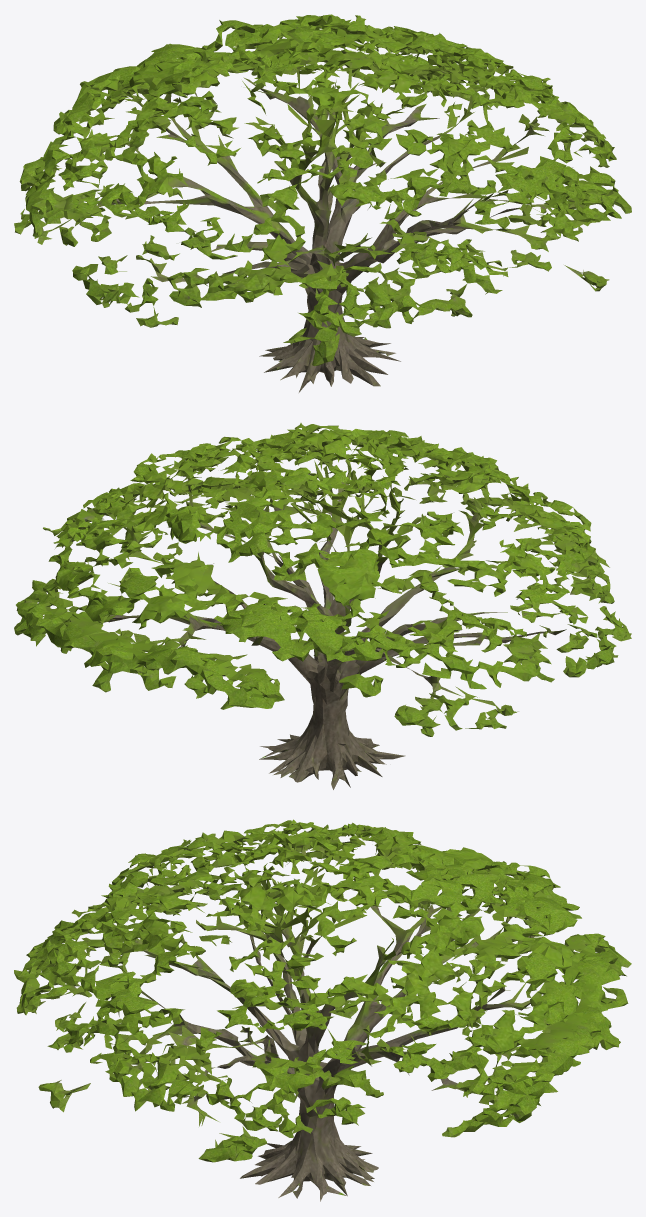
Rendered from remeshed-raintree.glb.
3 renders of one model, top to bottom at view 1: azimuth 30°, elevation 25°; view 2: azimuth 150°, elevation 25°; view 3: azimuth 270°, elevation 25°, orthographic. The views are drawn at different scales.
Visible parts, largest first — view 1: output_unwrapped; view 2: output_unwrapped; view 3: output_unwrapped.
Boxes of the visible parts, x1,y1,x2,y2 form: output_unwrapped: (14, 14, 631, 392); output_unwrapped: (14, 423, 631, 789); output_unwrapped: (14, 819, 631, 1201).
Bounding box in the file's own units: 1.85 × 1.06 × 1.85.
Materials: 1 (1 with a texture image).
